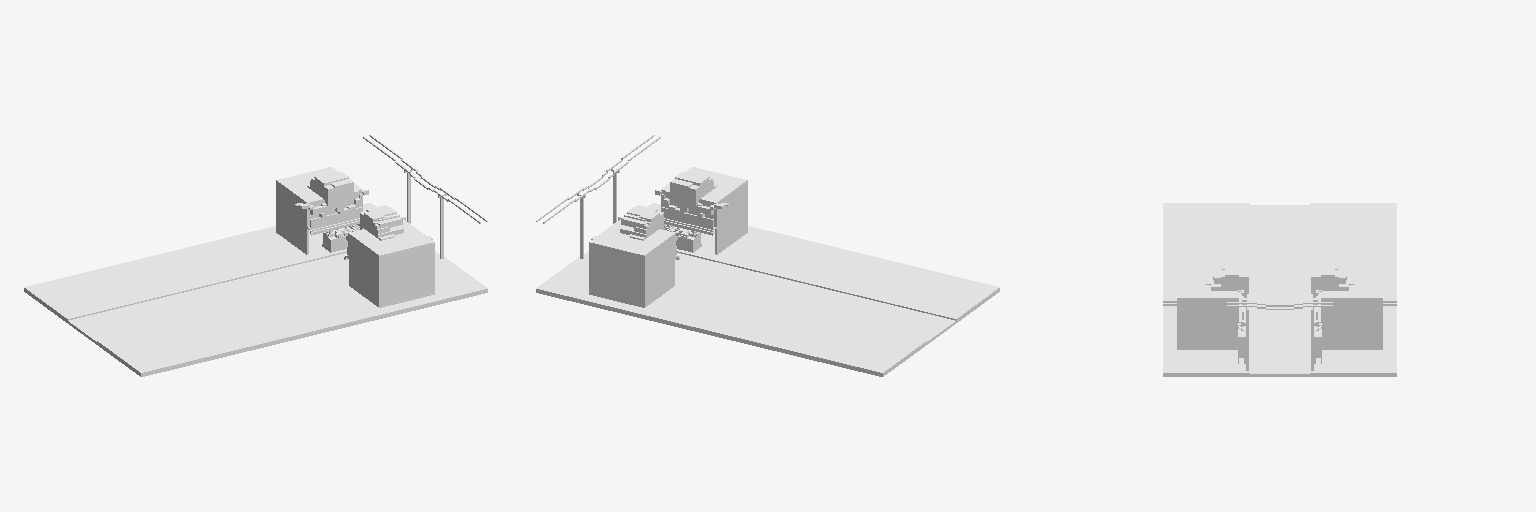
Rendered from backround_3.obj.
The picture shows the model from 3 angles: view 1: azimuth 30°, elevation 25°; view 2: azimuth 150°, elevation 25°; view 3: azimuth 270°, elevation 25°; orthographic projection.
Parts seen in each view (by area): view 1: object 1; view 2: object 1; view 3: object 1.
Part boxes in pixels (left/top/right/bottom): object 1: left=24, top=135, right=487, bottom=376; object 1: left=536, top=135, right=999, bottom=376; object 1: left=1163, top=203, right=1396, bottom=376.
Size of the model in its own units: 25.6 by 5.1 by 15.